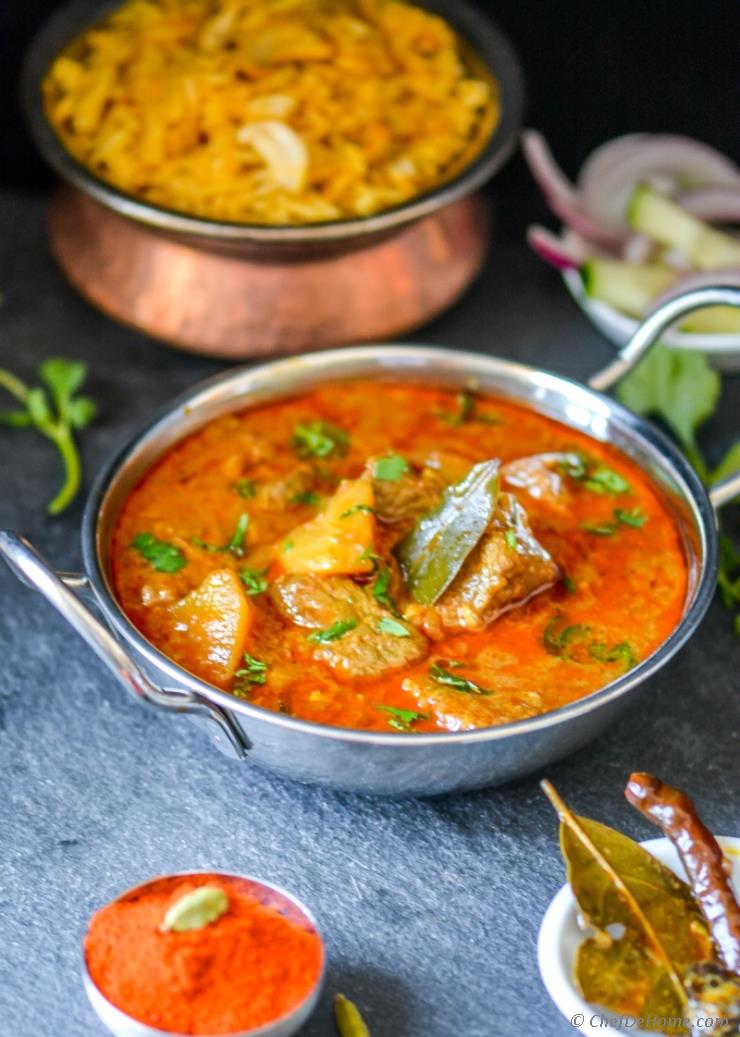chicken_curry: (143, 398, 650, 707)
